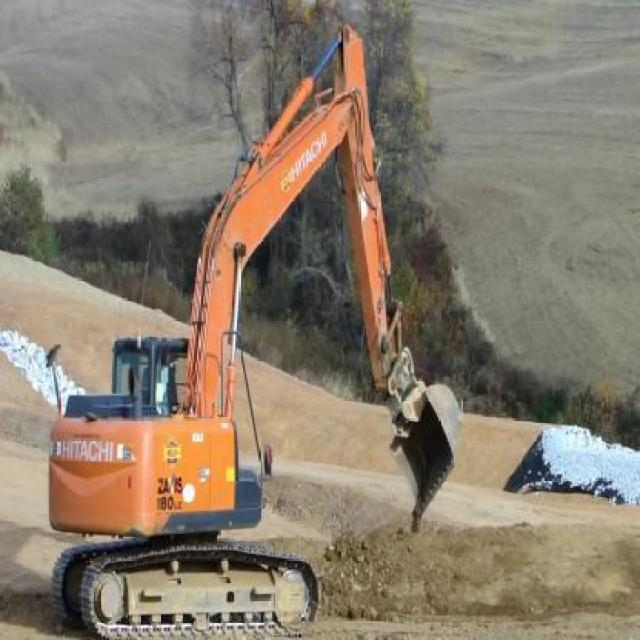Excavator: (42, 16, 466, 639)
